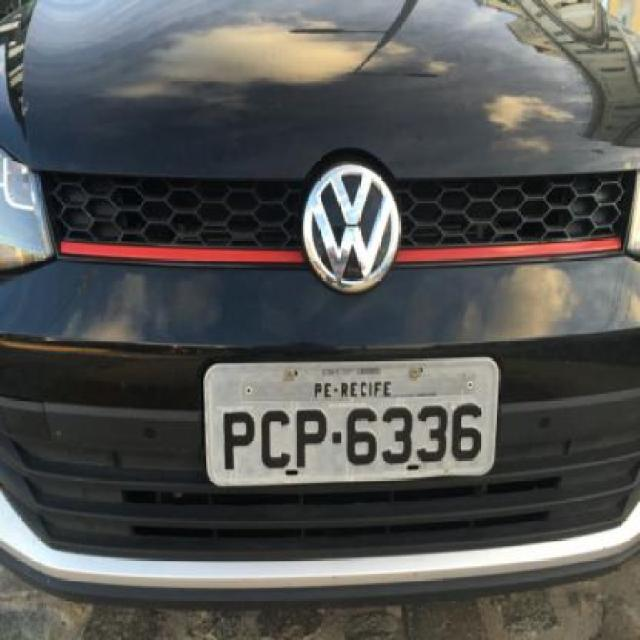old_plate: (191, 351, 506, 491)
